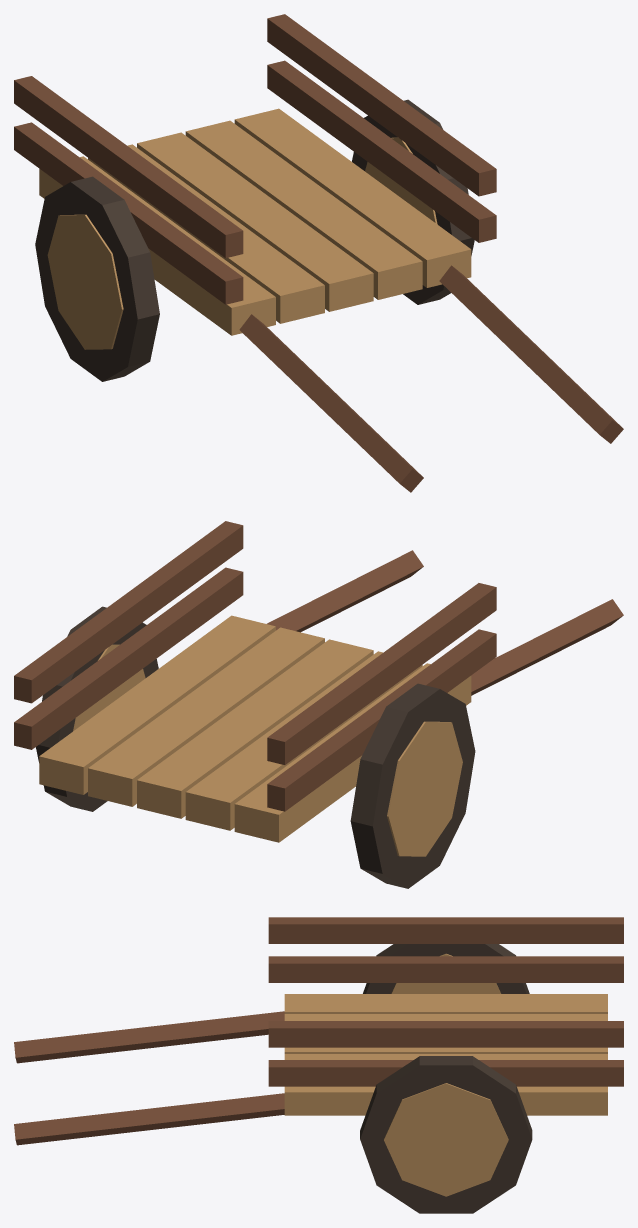
File: wood_cart.glb
3 views of the same model, one above another, from view 1: azimuth 30°, elevation 25°; view 2: azimuth 150°, elevation 25°; view 3: azimuth 270°, elevation 25° (orthographic). The views are drawn at different scales.
Visible parts, largest first — view 1: wood_cart; view 2: wood_cart; view 3: wood_cart.
Part boxes in pixels (<box>): wood_cart: <box>14,14,623,492</box>; wood_cart: <box>14,521,623,888</box>; wood_cart: <box>14,917,623,1213</box>.
Bounding box in the file's own units: 1.53 × 0.8804 × 2.83.
